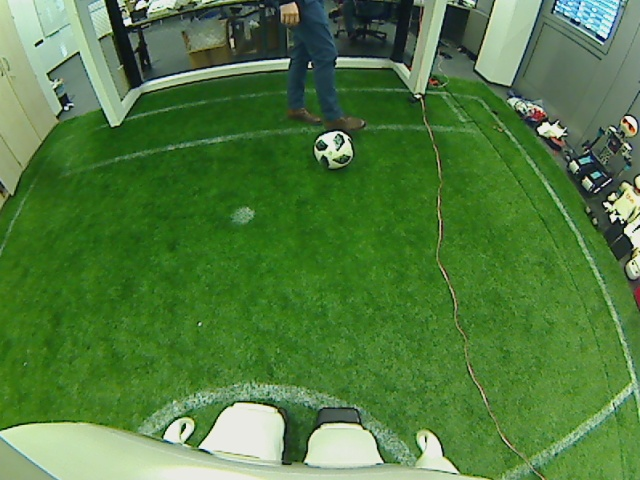ball: (311, 127, 356, 171)
